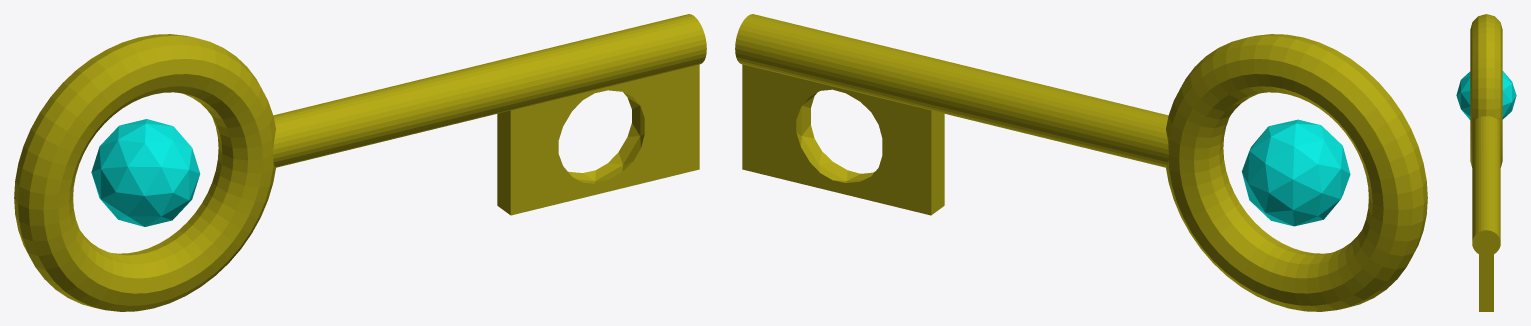
Rendered from Key.gltf.
3 views of the same model, side by side, from view 1: azimuth 30°, elevation 25°; view 2: azimuth 150°, elevation 25°; view 3: azimuth 270°, elevation 25° (orthographic). The views are drawn at different scales.
Visible parts, largest first — view 1: Torus, Cylinder, Cube, Icosphere; view 2: Torus, Cylinder, Cube, Icosphere; view 3: Cylinder, Torus, Icosphere, Cube.
Part boxes in pixels (bbox=[...]): Torus: bbox=[14, 34, 275, 311]; Cylinder: bbox=[272, 14, 706, 167]; Cube: bbox=[497, 64, 699, 215]; Icosphere: bbox=[91, 119, 200, 226]; Torus: bbox=[1166, 34, 1427, 311]; Cylinder: bbox=[735, 14, 1169, 167]; Cube: bbox=[742, 64, 944, 215]; Icosphere: bbox=[1241, 119, 1350, 226]; Cylinder: bbox=[1472, 116, 1500, 256]; Torus: bbox=[1470, 14, 1502, 167]; Icosphere: bbox=[1456, 71, 1516, 119]; Cube: bbox=[1479, 254, 1493, 311].
Size of the model in its own units: 0.5729 by 0.2166 by 0.08.
